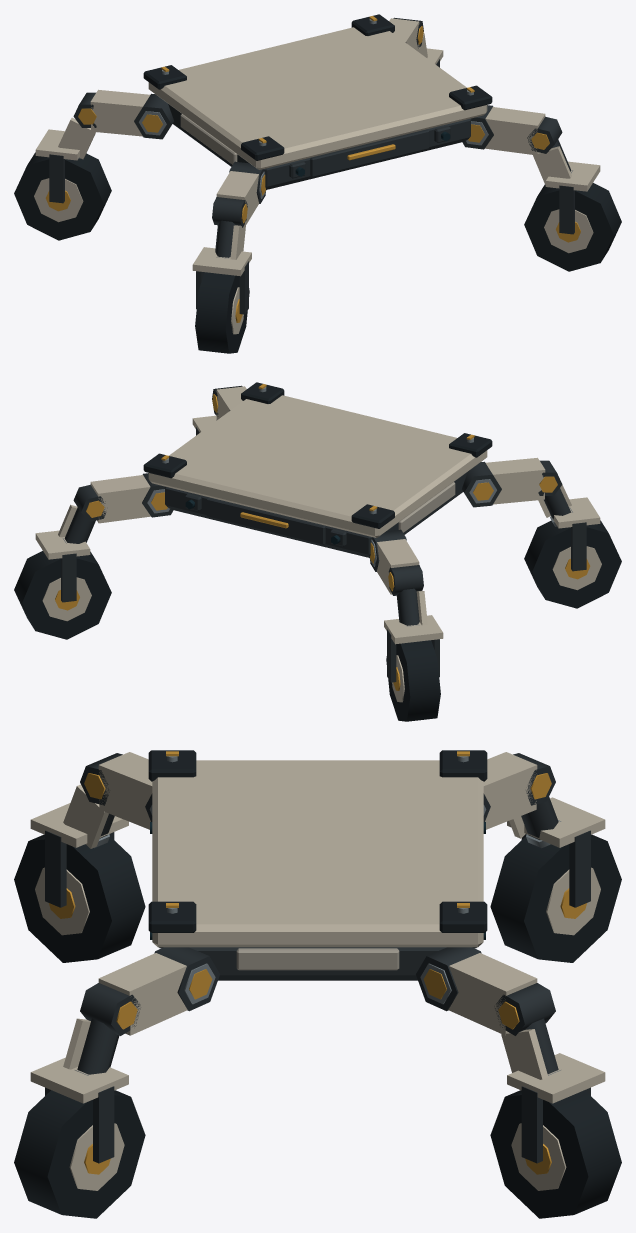
Rendered from stride_d0_lod2.meshopt.glb.
3 renders of one model, top to bottom at view 1: azimuth 30°, elevation 25°; view 2: azimuth 150°, elevation 25°; view 3: azimuth 270°, elevation 25°, orthographic. The views are drawn at different scales.
Parts seen in each view (by area): view 1: STRIDE_STATIC_SURFACE; view 2: STRIDE_STATIC_SURFACE; view 3: STRIDE_STATIC_SURFACE.
Boxes of the visible parts, x1,y1,x2,y2 form: STRIDE_STATIC_SURFACE: [14, 14, 621, 353]; STRIDE_STATIC_SURFACE: [14, 382, 621, 721]; STRIDE_STATIC_SURFACE: [14, 750, 621, 1218].
Size of the model in its own units: 2.18 by 0.833 by 1.8.
